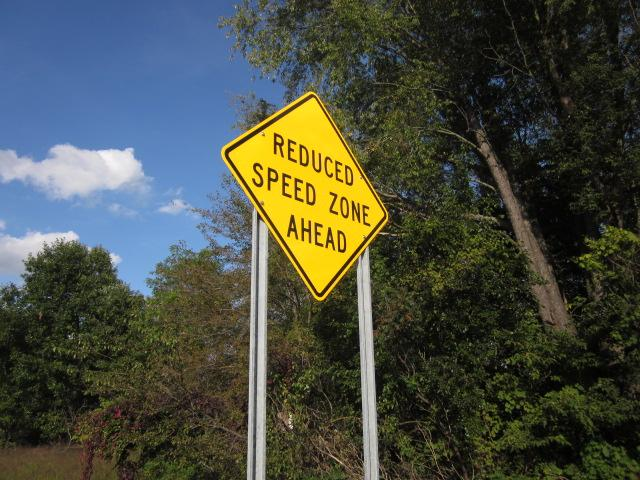warning: (219, 81, 393, 307)
